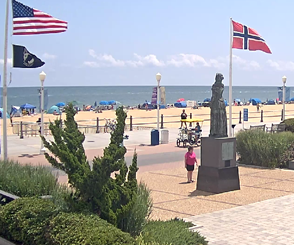Flag: (10, 1, 70, 39), (230, 20, 273, 56), (11, 43, 49, 69)
